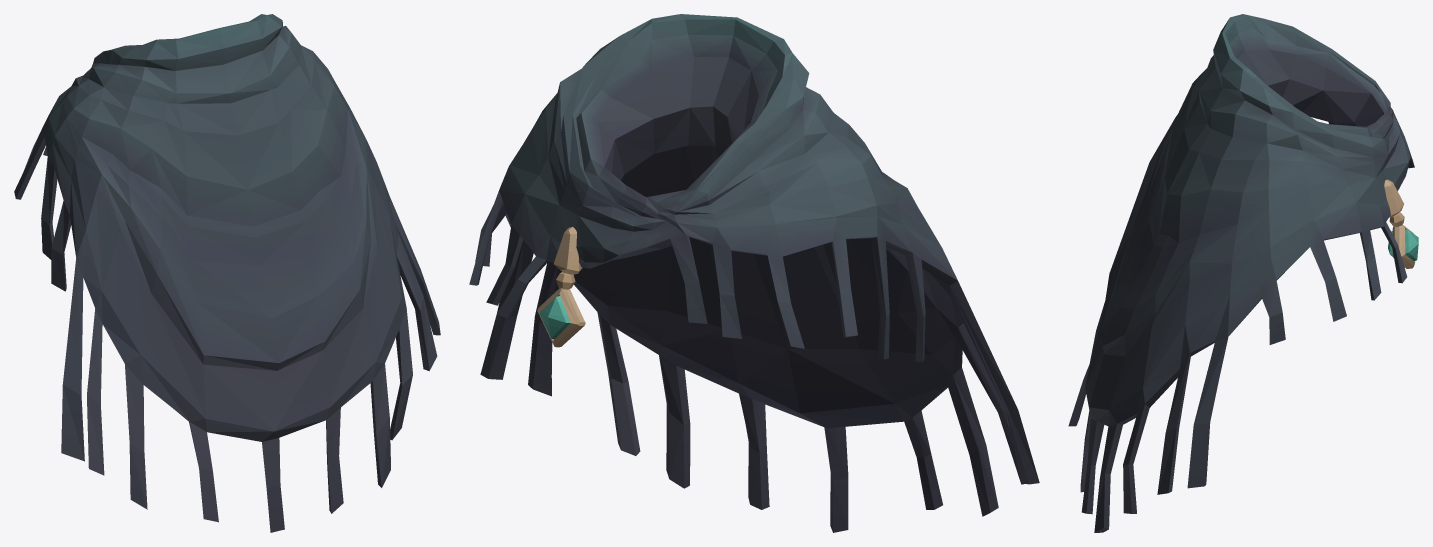
The model's file is CharSkyKid_Wing_AP13Shawl_01.glb.
3 renders of one model, left to right at view 1: azimuth 30°, elevation 25°; view 2: azimuth 150°, elevation 25°; view 3: azimuth 270°, elevation 25°, orthographic. The views are drawn at different scales.
Parts seen in each view (by area): view 1: CharSkyKid_Wing_AP13Shawl_01; view 2: CharSkyKid_Wing_AP13Shawl_01; view 3: CharSkyKid_Wing_AP13Shawl_01.
Boxes of the visible parts, x1=… form: CharSkyKid_Wing_AP13Shawl_01: x1=14, y1=14, x2=440, y2=532; CharSkyKid_Wing_AP13Shawl_01: x1=469, y1=14, x2=1039, y2=532; CharSkyKid_Wing_AP13Shawl_01: x1=1068, y1=14, x2=1418, y2=532.
Size of the model in its own units: 5.82 by 6.14 by 4.21.
Materials: 1 (1 with a texture image).
